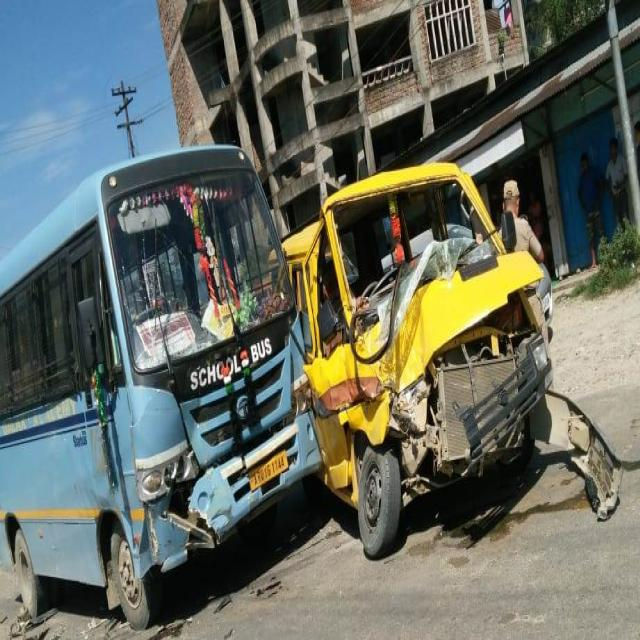accident: (0, 147, 320, 628), (282, 163, 621, 558)
